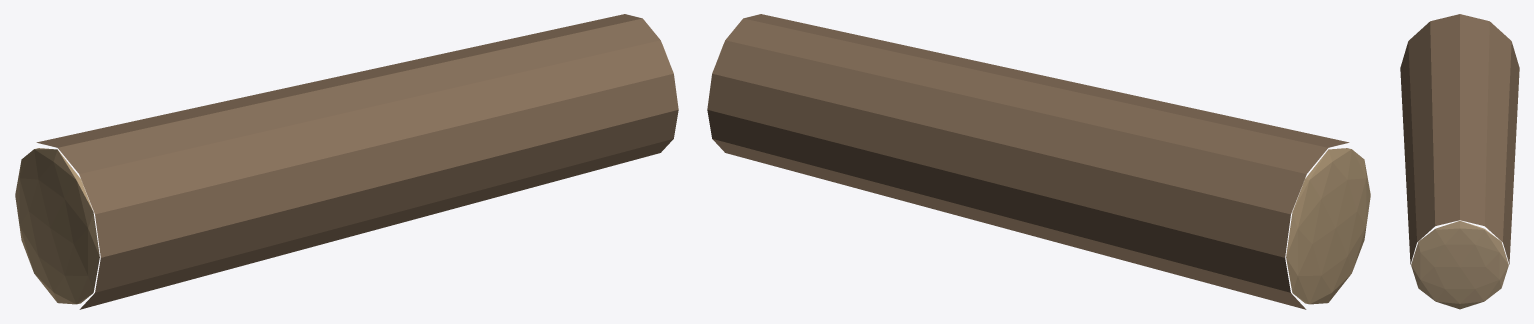
The model's file is log-01.glb.
3 renders of one model, left to right at view 1: azimuth 30°, elevation 25°; view 2: azimuth 150°, elevation 25°; view 3: azimuth 270°, elevation 25°, orthographic. The views are drawn at different scales.
Visible parts, largest first — view 1: part_000; view 2: part_000; view 3: part_000.
Part boxes in pixels (<box>): part_000: <box>15,14,678,309</box>; part_000: <box>707,14,1370,309</box>; part_000: <box>1400,14,1519,309</box>.
Size of the model in its own units: 1.28 by 0.3201 by 0.3201.
